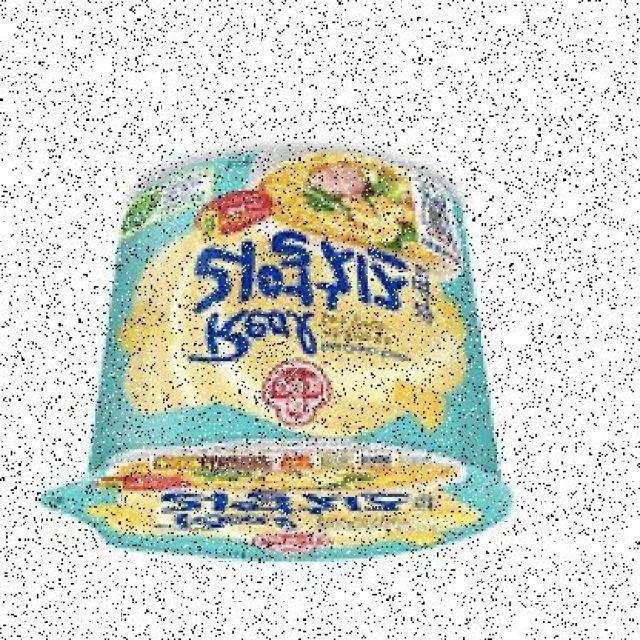Miscellaneous: (38, 122, 537, 600)
